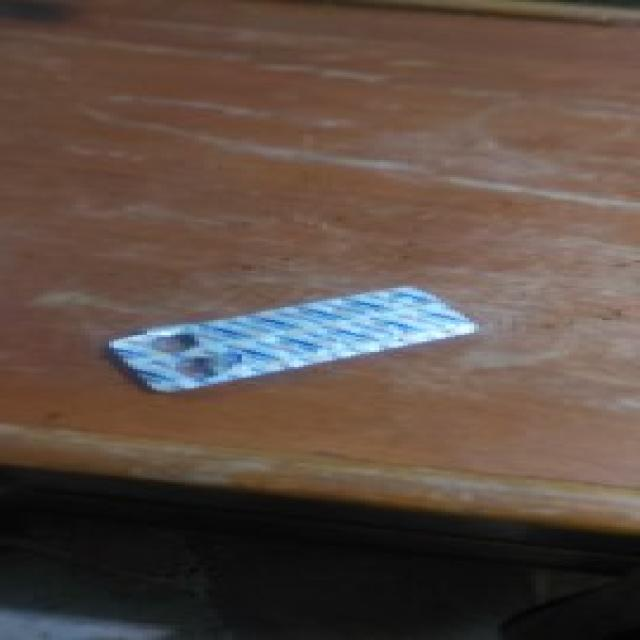Cacat: (104, 286, 481, 396)
Kemasan: (142, 329, 232, 379)
